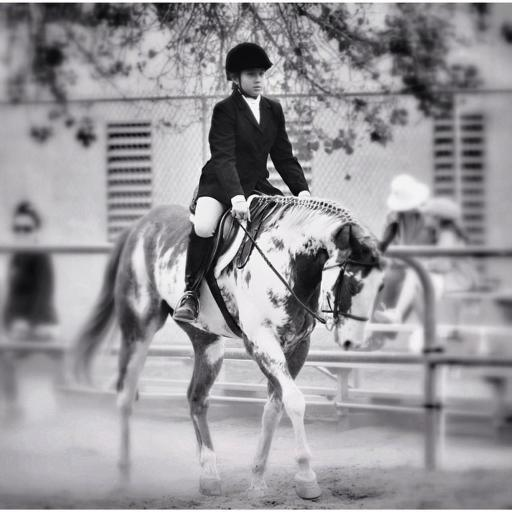horse: (66, 195, 389, 501)
